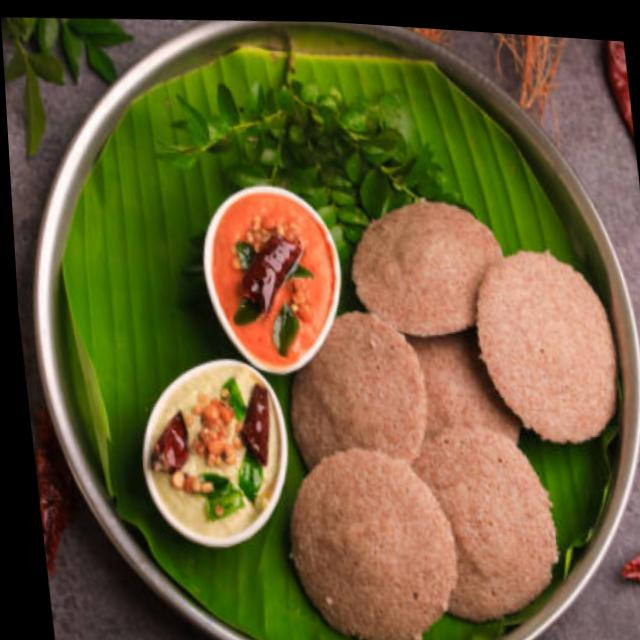IDLI: (270, 202, 612, 640)
RED CHUTNEY: (205, 188, 333, 371)
WHITE CHUTNEY: (138, 362, 282, 542)
